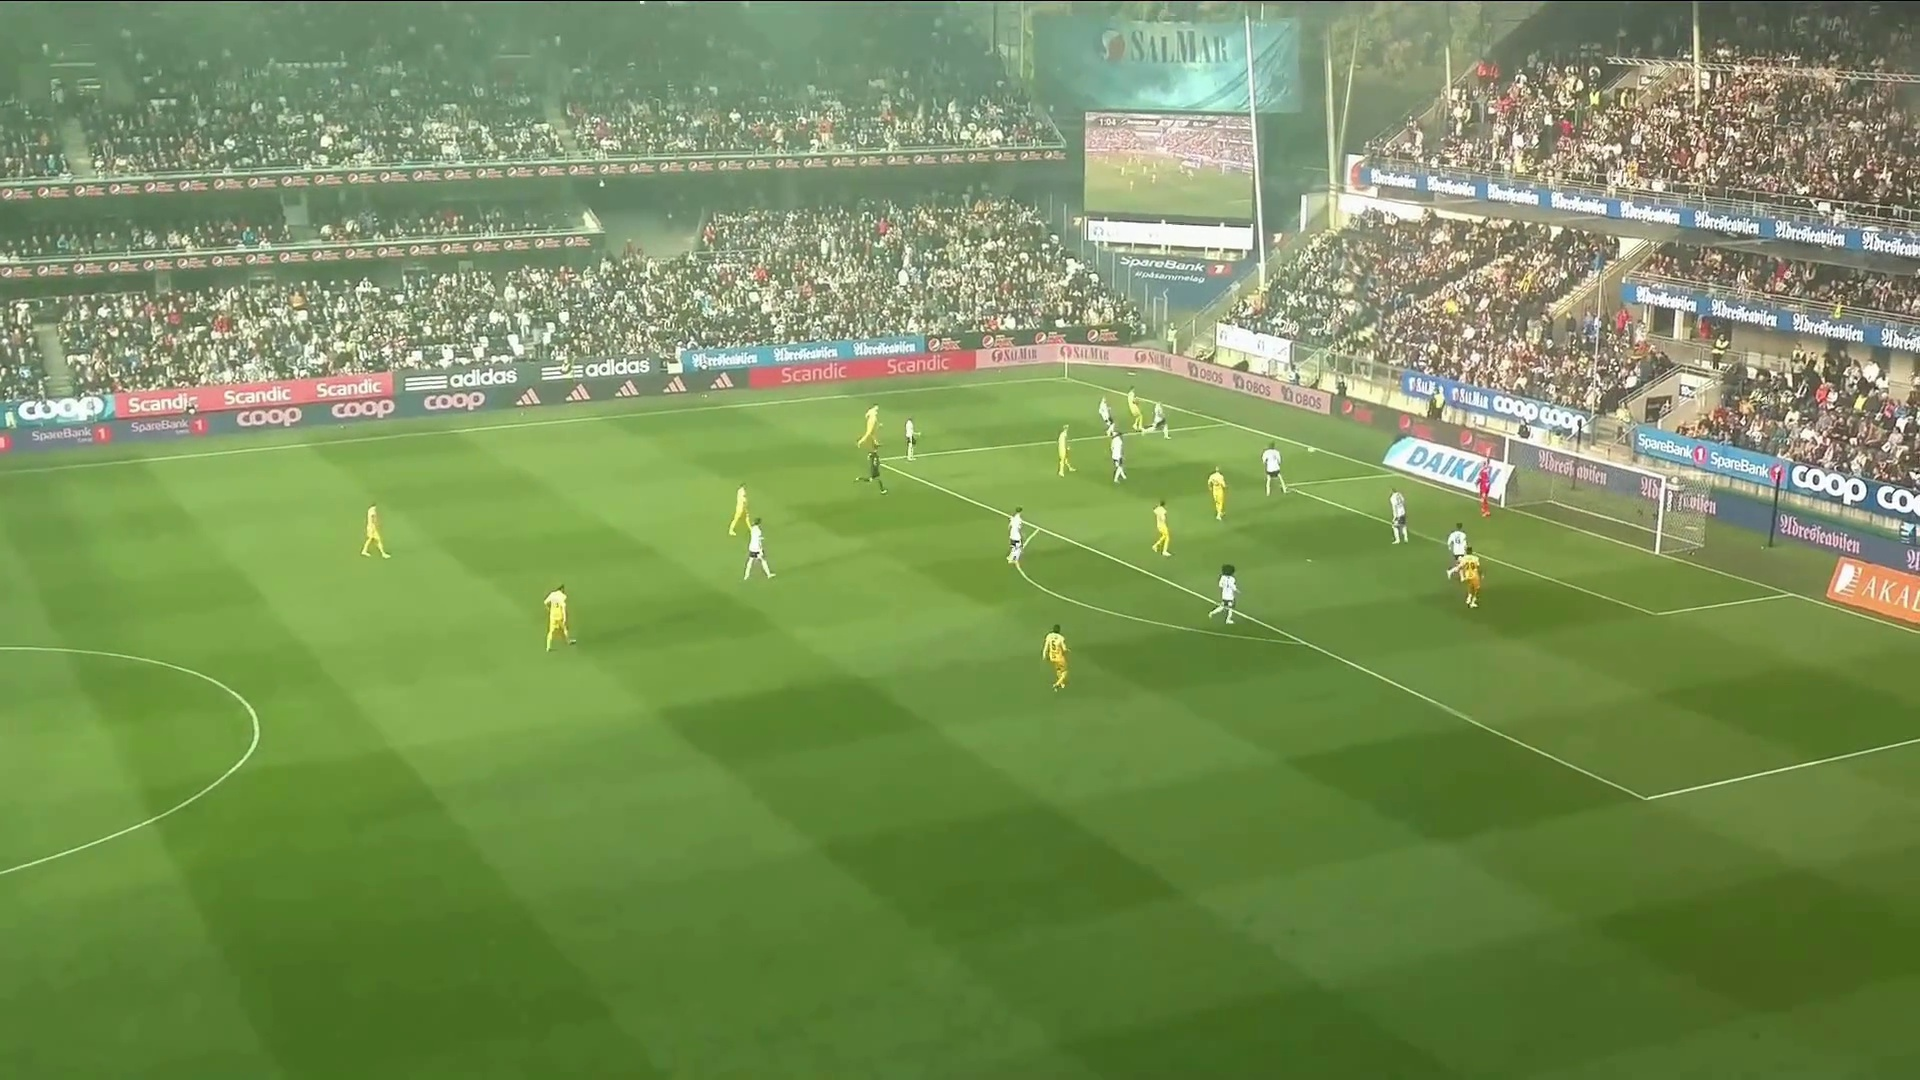ball: (1305, 444, 1316, 454)
player: (543, 583, 576, 652), (742, 516, 776, 581), (1208, 563, 1242, 624), (1042, 623, 1071, 691), (360, 503, 392, 559), (853, 447, 888, 494), (1459, 546, 1483, 609), (1262, 441, 1289, 496), (1446, 521, 1469, 581), (1151, 498, 1174, 557), (855, 403, 883, 449), (728, 482, 751, 536), (1389, 487, 1409, 544), (1208, 465, 1228, 521), (1006, 506, 1024, 565), (1476, 459, 1493, 518), (1145, 401, 1171, 439), (1057, 424, 1075, 478), (1109, 430, 1127, 482), (1127, 384, 1144, 433), (1098, 396, 1115, 436), (904, 417, 919, 460)
